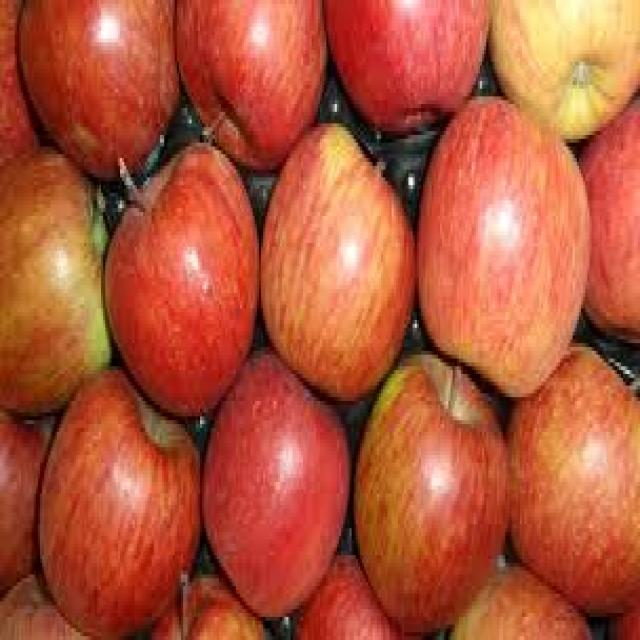organic waste: (413, 89, 587, 393), (34, 359, 198, 636), (352, 351, 508, 628), (101, 139, 255, 416), (259, 116, 413, 389), (200, 335, 347, 621), (501, 335, 638, 617), (0, 142, 109, 416), (14, 0, 174, 177), (171, 0, 324, 166), (320, 0, 491, 131), (486, 0, 638, 139), (575, 93, 638, 339), (440, 551, 587, 636), (291, 551, 404, 636), (0, 404, 44, 598), (150, 567, 261, 636), (0, 0, 42, 177), (0, 566, 86, 636), (604, 578, 638, 636)
